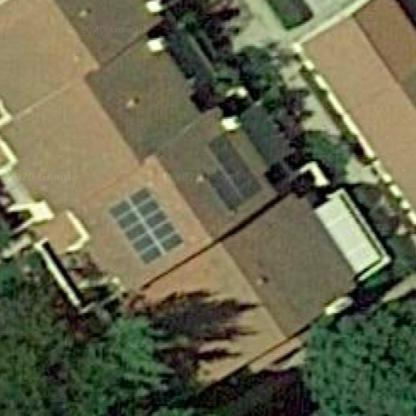solar_panel: (105, 172, 181, 267), (192, 128, 262, 219)
